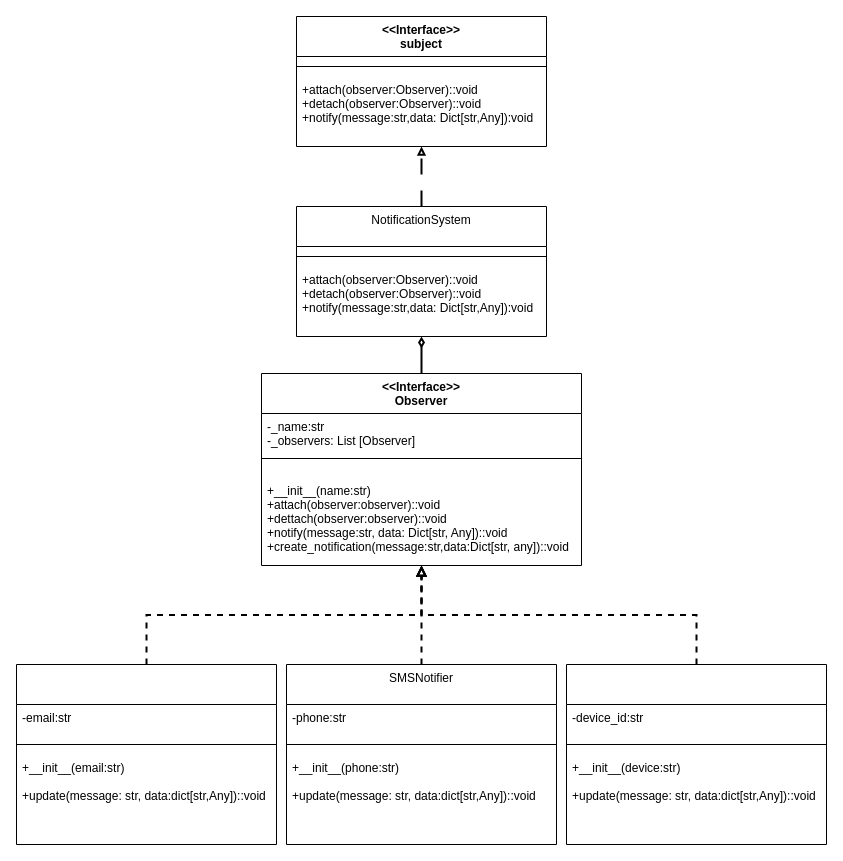
Image size: 843x861. Some labels were removed from this diagram. Here are the shapes that lost their labels. From the top down, the box of each, then its label:
(16, 664, 276, 844): EmailNotificar
(566, 664, 826, 844): PushNotifie
